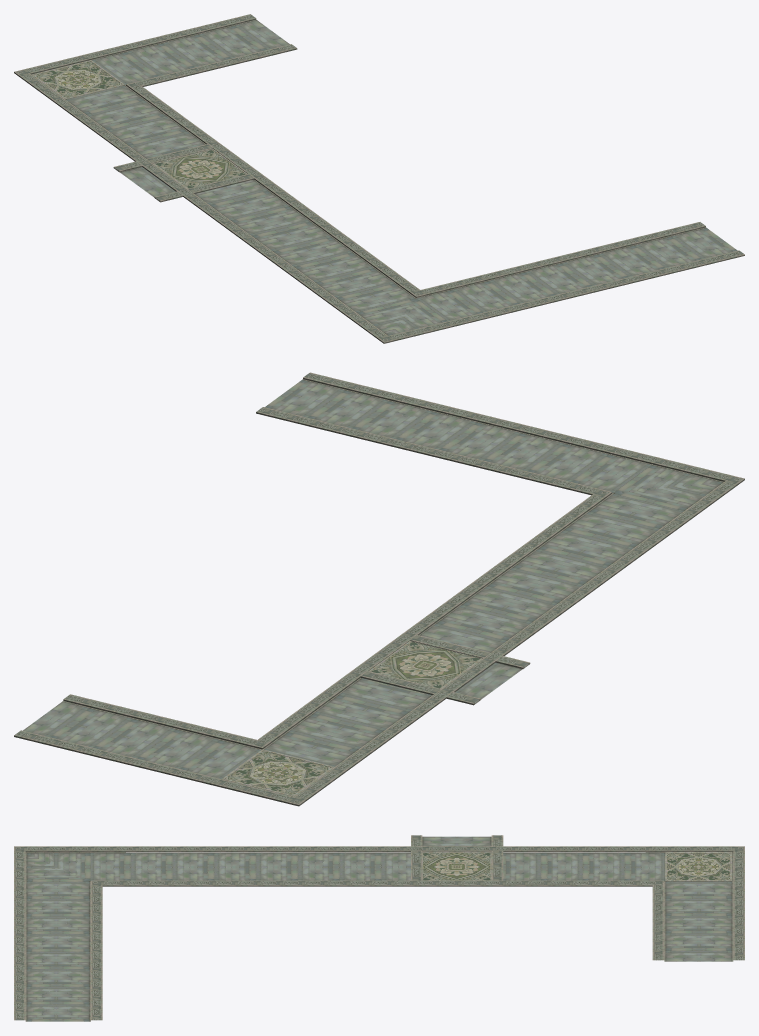
File: szc_building_dimian_quyu02_02.FBX
3 renders of one model, top to bottom at view 1: azimuth 30°, elevation 25°; view 2: azimuth 150°, elevation 25°; view 3: azimuth 270°, elevation 25°, orthographic. The views are drawn at different scales.
Parts seen in each view (by area): view 1: szc_building_dimian_quyu02_02; view 2: szc_building_dimian_quyu02_02; view 3: szc_building_dimian_quyu02_02.
Part boxes in pixels (x1,y1,x2,y2): szc_building_dimian_quyu02_02: (14,14,744,343); szc_building_dimian_quyu02_02: (14,372,744,806); szc_building_dimian_quyu02_02: (14,835,744,1021).
Bounding box in the file's own units: 1723 × 7.56 × 2878.
